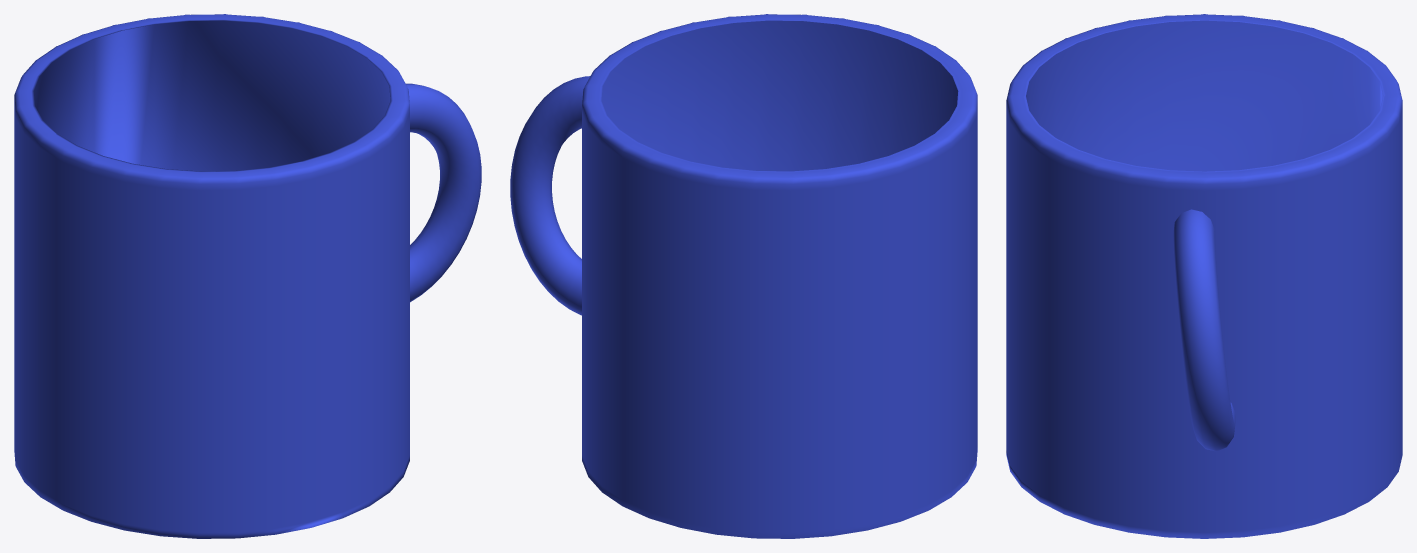
Rendered from cup.gltf.
The picture shows the model from 3 angles, left to right: view 1: azimuth 30°, elevation 25°; view 2: azimuth 150°, elevation 25°; view 3: azimuth 270°, elevation 25°; orthographic projection.
Parts seen in each view (by area): view 1: Cup; view 2: Cup; view 3: Cup.
Boxes of the visible parts, left/top/right/bottom form: Cup: left=14, top=14, right=481, bottom=538; Cup: left=510, top=14, right=977, bottom=538; Cup: left=1006, top=14, right=1402, bottom=538.
Bounding box in the file's own units: 2.55 × 2 × 2.
